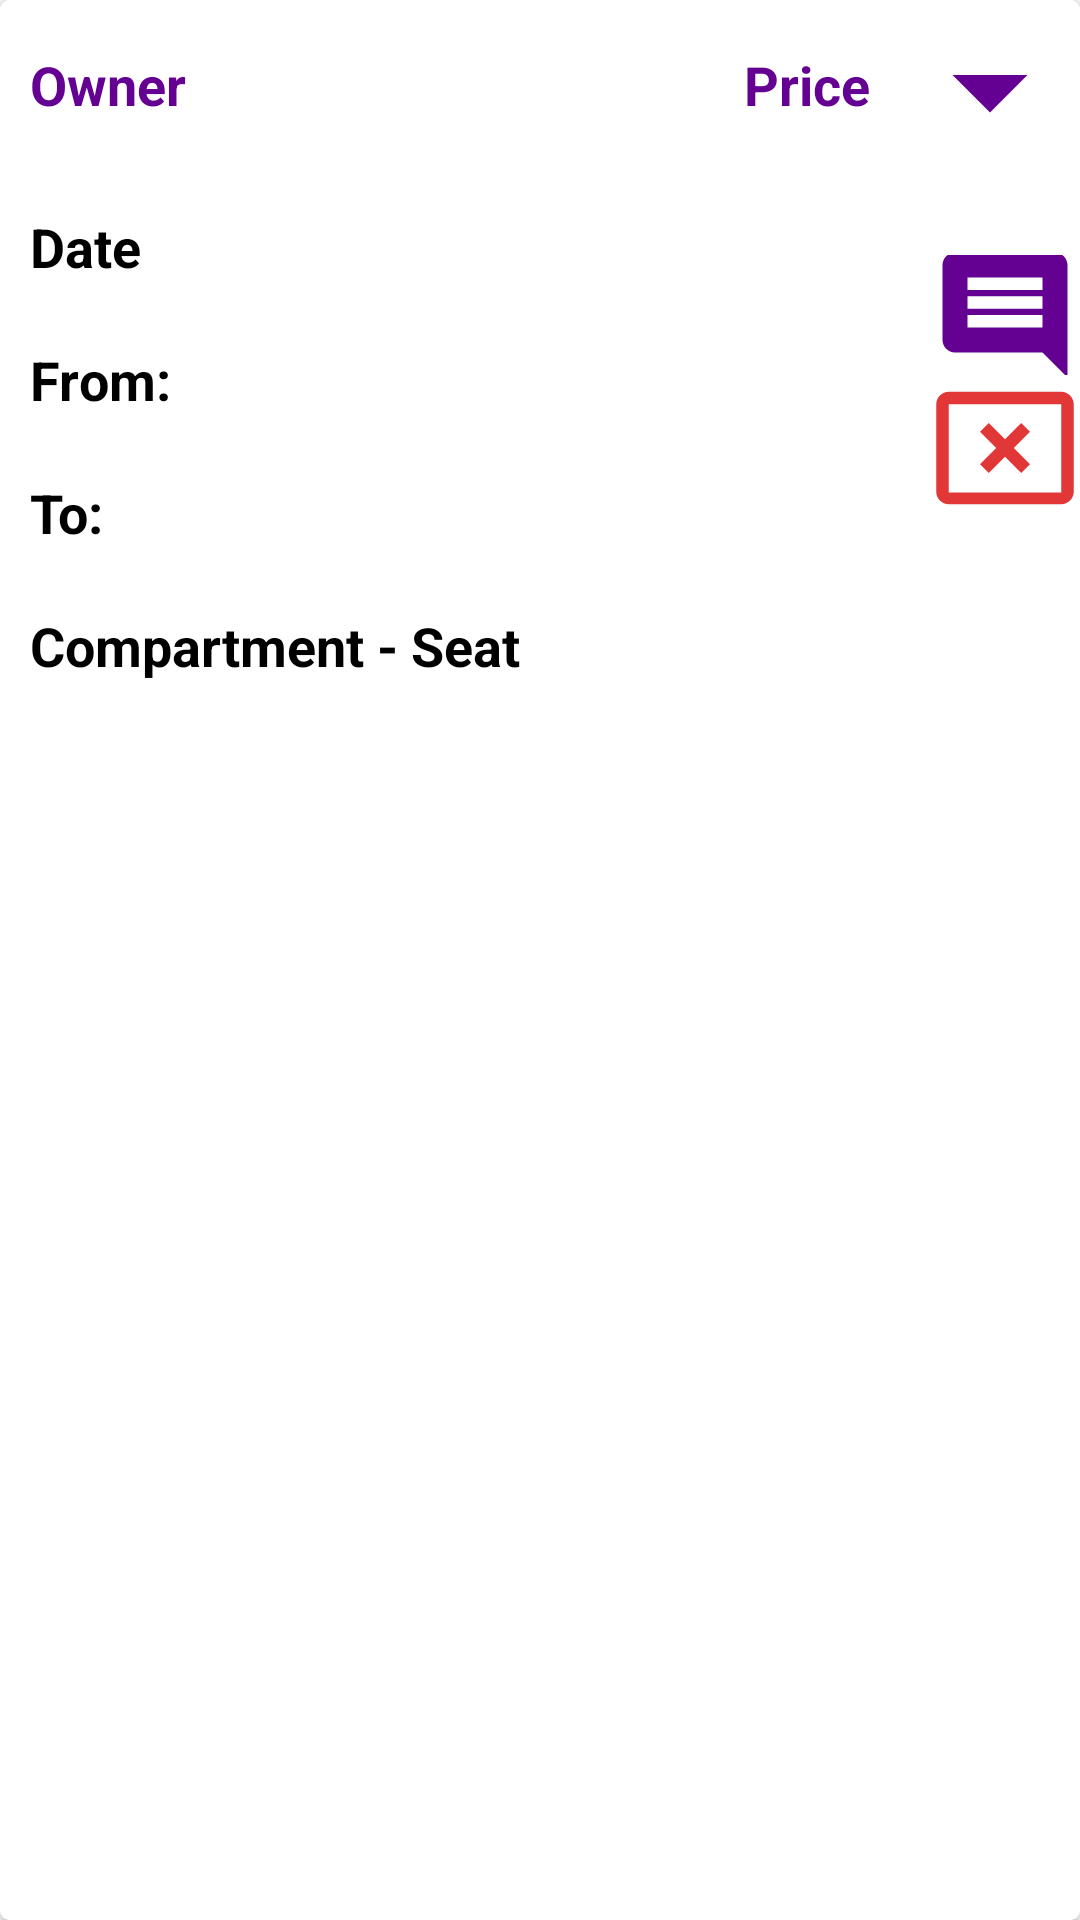

Icons on this 1080w x 1920h Android screen, each with the point to tap as point (x, y):
cancel: point (1005, 448)
insert comment: point (1005, 315)
